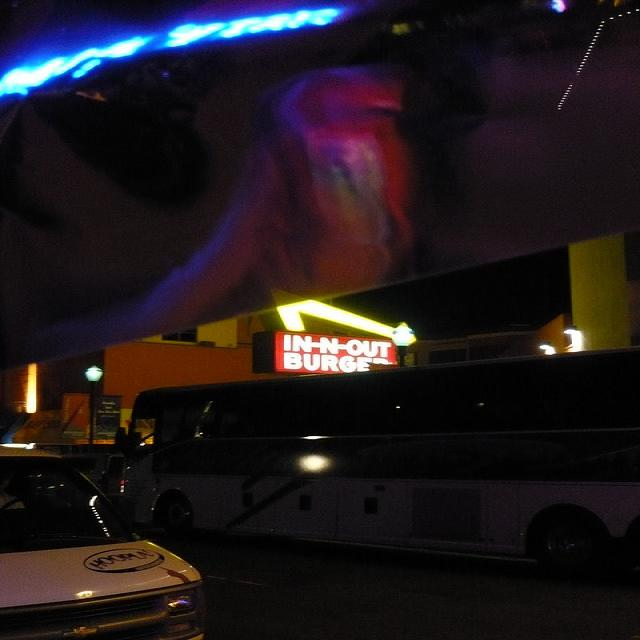Bus: (112, 377, 640, 568)
car: (0, 439, 291, 640)
